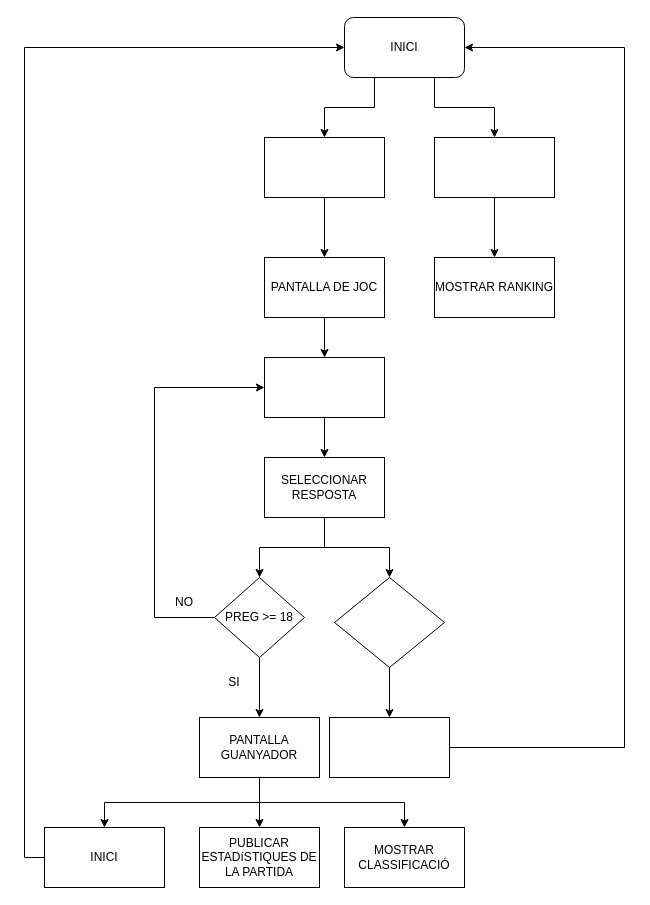
Image size: 650x905. Some labels were removed from this diagram. Here are the shapes that lost their labels. From the top down, the centre of each, then its label:
At pixel 324 167: "JUGAR".
At pixel 494 167: "HALL OF FAME".
At pixel 324 387: "MOSTRAR PREGUNTA".
At pixel 389 622: "PREGUNTA ERRONEA".
At pixel 389 747: "GAME OVER".
